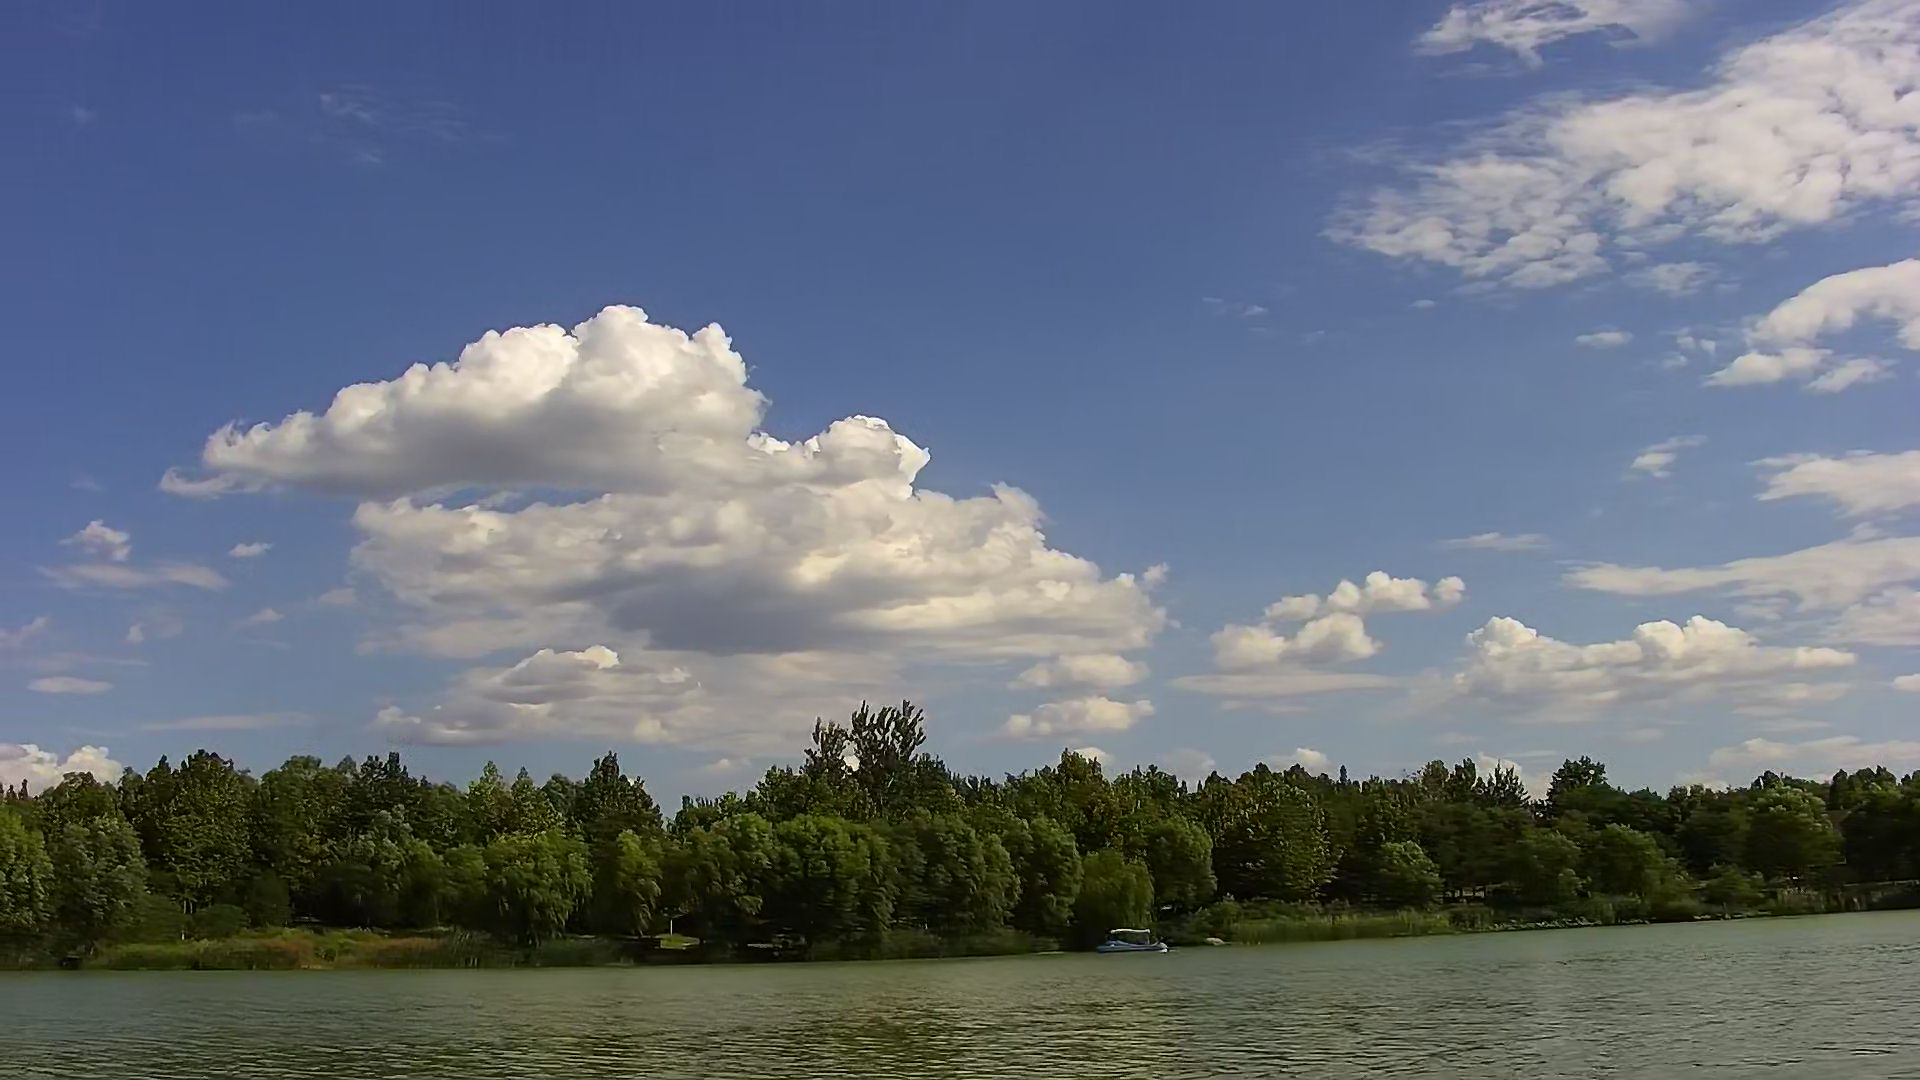boat: (1098, 927, 1160, 957)
